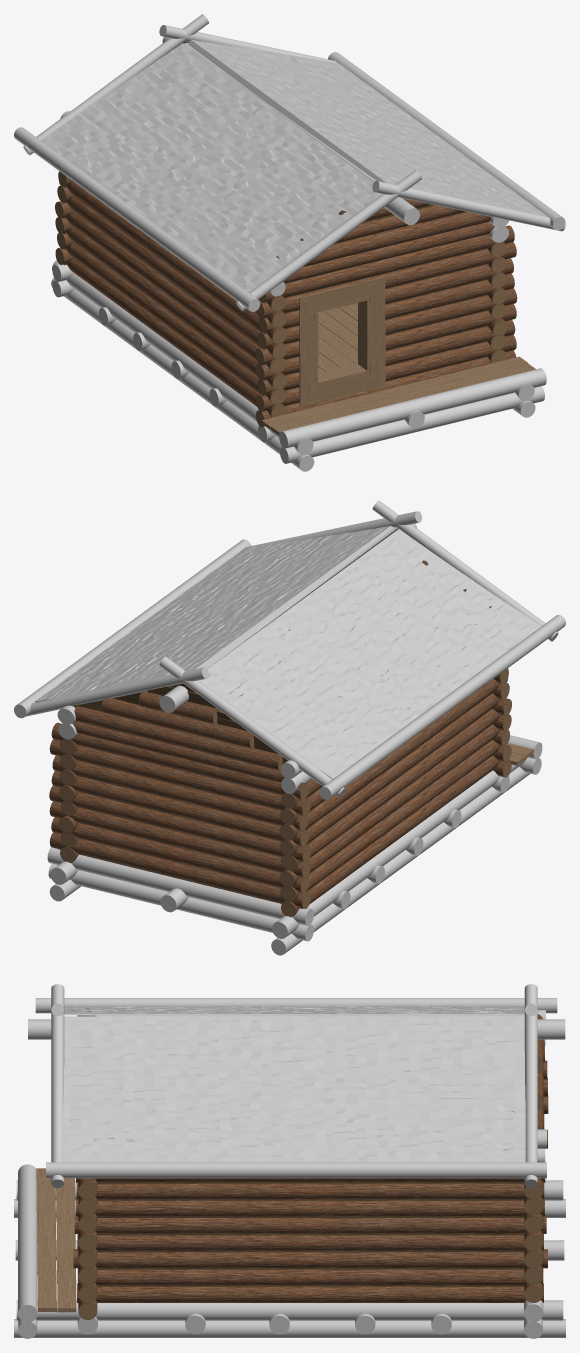
The model's file is banya_LOD0.fbx.
3 renders of one model, top to bottom at view 1: azimuth 30°, elevation 25°; view 2: azimuth 150°, elevation 25°; view 3: azimuth 270°, elevation 25°, orthographic. The views are drawn at different scales.
Parts seen in each view (by area): view 1: Куб.003, Куб.002, Цилиндр.003, Цилиндр.007, Цилиндр, Цилиндр.069, Цилиндр.071, Цилиндр.027, Цилиндр.072, Цилиндр.055, Цилиндр.070, Цилиндр.021 (+30 smaller); view 2: Куб.003, Куб.002, Цилиндр.007, Цилиндр.006, Цилиндр.044, Цилиндр.048, Цилиндр.042, Цилиндр.045, Цилиндр.046, Цилиндр.043, Цилиндр.047, Цилиндр.055 (+19 smaller); view 3: Куб.002, Цилиндр.066, Цилиндр.005, Цилиндр.002, Цилиндр.051, Цилиндр.054, Цилиндр.067, Цилиндр.020, Цилиндр.050, Цилиндр.053, Цилиндр.052, Куб.003 (+18 smaller).
Part boxes in pixels (bbox=[...]): Куб.003: bbox=[41, 43, 382, 292]; Куб.002: bbox=[188, 39, 547, 216]; Цилиндр.003: bbox=[279, 368, 546, 448]; Цилиндр.007: bbox=[14, 127, 260, 311]; Цилиндр: bbox=[280, 386, 544, 463]; Цилиндр.069: bbox=[66, 242, 286, 404]; Цилиндр.071: bbox=[66, 211, 286, 373]; Цилиндр.027: bbox=[260, 225, 514, 302]; Цилиндр.072: bbox=[67, 196, 287, 358]; Цилиндр.055: bbox=[52, 260, 313, 454]; Цилиндр.070: bbox=[67, 227, 287, 389]; Цилиндр.021: bbox=[67, 258, 285, 417]; Куб.003: bbox=[199, 528, 541, 779]; Куб.002: bbox=[35, 526, 394, 702]; Цилиндр.007: bbox=[319, 615, 565, 799]; Цилиндр.006: bbox=[47, 847, 313, 925]; Цилиндр.044: bbox=[49, 801, 310, 877]; Цилиндр.048: bbox=[49, 739, 310, 815]; Цилиндр.042: bbox=[49, 832, 310, 908]; Цилиндр.045: bbox=[49, 785, 311, 862]; Цилиндр.046: bbox=[51, 770, 308, 846]; Цилиндр.043: bbox=[51, 817, 309, 893]; Цилиндр.047: bbox=[52, 755, 308, 830]; Цилиндр.055: bbox=[272, 758, 526, 938]; Куб.002: bbox=[60, 1016, 525, 1162]; Цилиндр.066: bbox=[46, 1162, 546, 1178]; Цилиндр.005: bbox=[16, 1300, 563, 1320]; Цилиндр.002: bbox=[14, 1319, 565, 1337]; Цилиндр.051: bbox=[73, 1249, 547, 1268]; Цилиндр.054: bbox=[76, 1197, 544, 1216]; Цилиндр.067: bbox=[76, 1182, 544, 1199]; Цилиндр.020: bbox=[77, 1283, 543, 1302]; Цилиндр.050: bbox=[78, 1268, 543, 1285]; Цилиндр.053: bbox=[74, 1215, 546, 1233]; Цилиндр.052: bbox=[77, 1234, 543, 1250]; Куб.003: bbox=[64, 1005, 524, 1016].
Size of the model in its own units: 4418 by 3294 by 5811.
